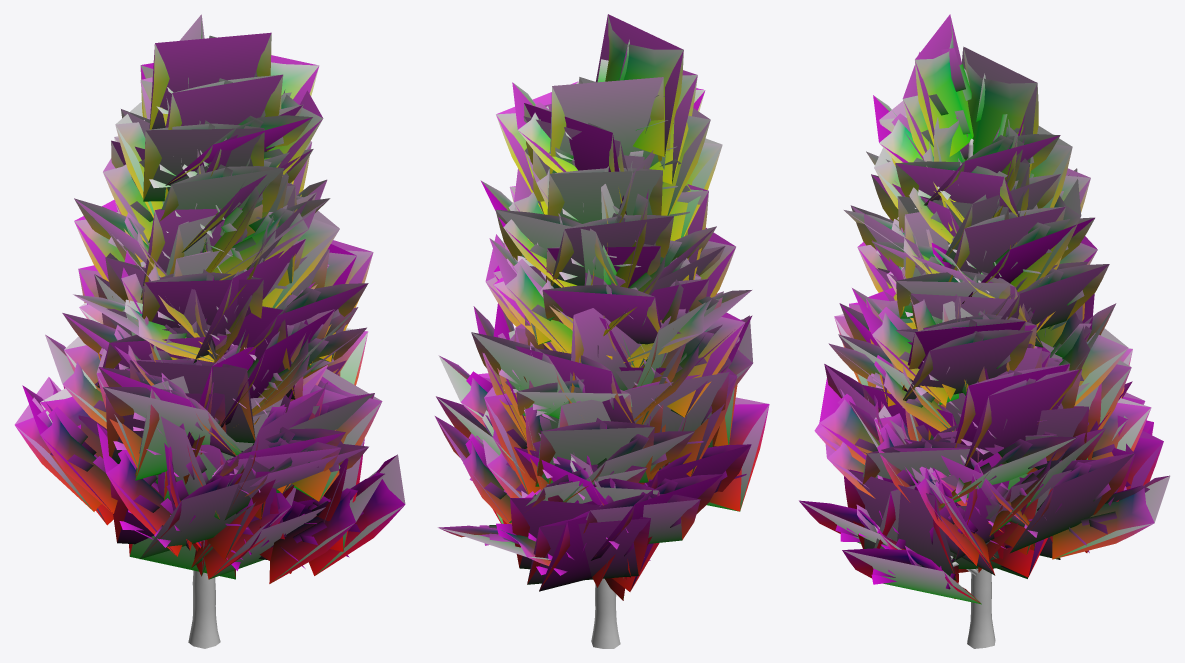
The model's file is pine_03_4.fbx.
3 renders of one model, left to right at view 1: azimuth 30°, elevation 25°; view 2: azimuth 150°, elevation 25°; view 3: azimuth 270°, elevation 25°, orthographic. The views are drawn at different scales.
Visible parts, largest first — view 1: pine_leaves_03_4_shadow, pine_leaves_03_4_lod_0, pine_tree_03_4_lod_0; view 2: pine_leaves_03_4_shadow, pine_leaves_03_4_lod_0, pine_tree_03_4_lod_0; view 3: pine_leaves_03_4_shadow, pine_leaves_03_4_lod_0, pine_tree_03_4_lod_0.
Part boxes in pixels (box(x1,y1,x2,y2)): pine_leaves_03_4_shadow: box(15, 14, 405, 582); pine_leaves_03_4_lod_0: box(15, 17, 405, 583); pine_tree_03_4_lod_0: box(188, 570, 220, 648); pine_leaves_03_4_shadow: box(435, 14, 769, 598); pine_leaves_03_4_lod_0: box(435, 15, 769, 600); pine_tree_03_4_lod_0: box(591, 578, 620, 648); pine_leaves_03_4_shadow: box(799, 14, 1170, 604); pine_leaves_03_4_lod_0: box(799, 16, 1169, 603); pine_tree_03_4_lod_0: box(950, 138, 995, 648).
Size of what is drawn, in the model's own units: 5.38 by 10.12 by 5.7.
